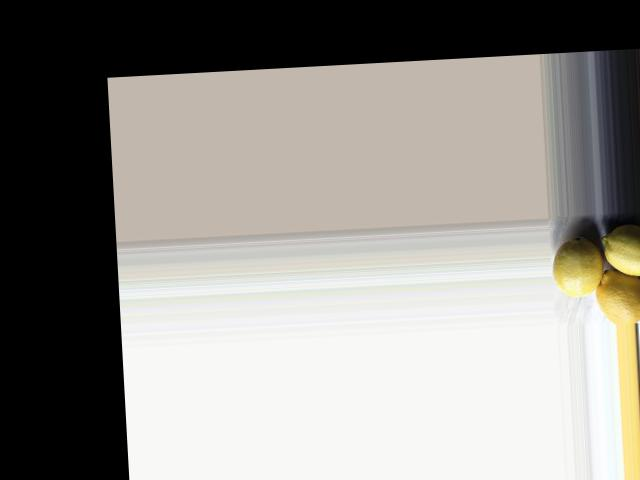lemon: (550, 232, 600, 298)
